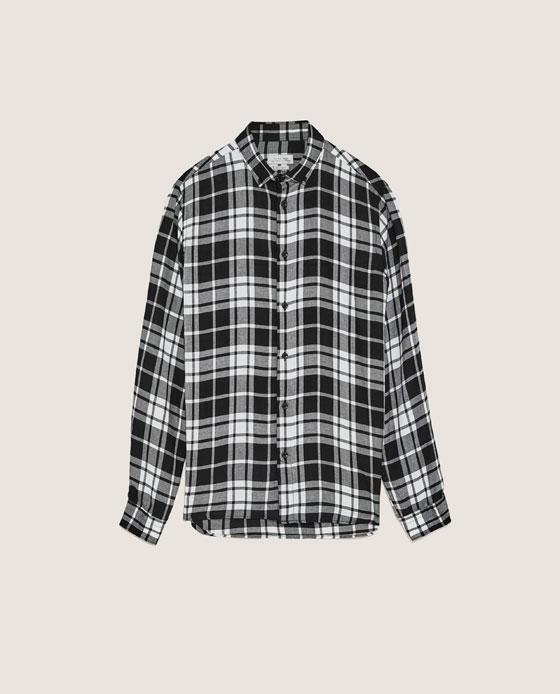teeshirt: (117, 115, 455, 550)
